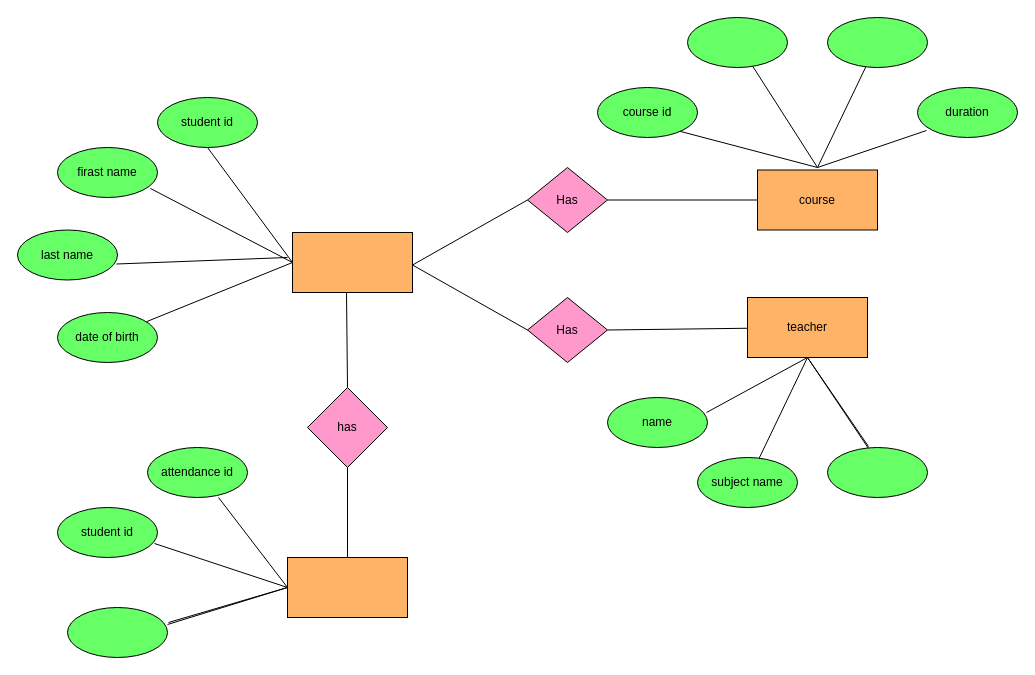
Image size: 1035x675. Some labels were removed from this diagram. Here are the shapes that lost their labels. From the top down, the centre of each, then its label:
At point (737, 42): "course name".
At point (877, 42): "description".
At point (352, 262): "student".
At point (877, 472): "phone".
At point (347, 587): "attendance".
At point (117, 632): "coures id".
